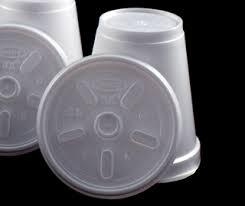Plastic cup: (1, 1, 245, 206)
